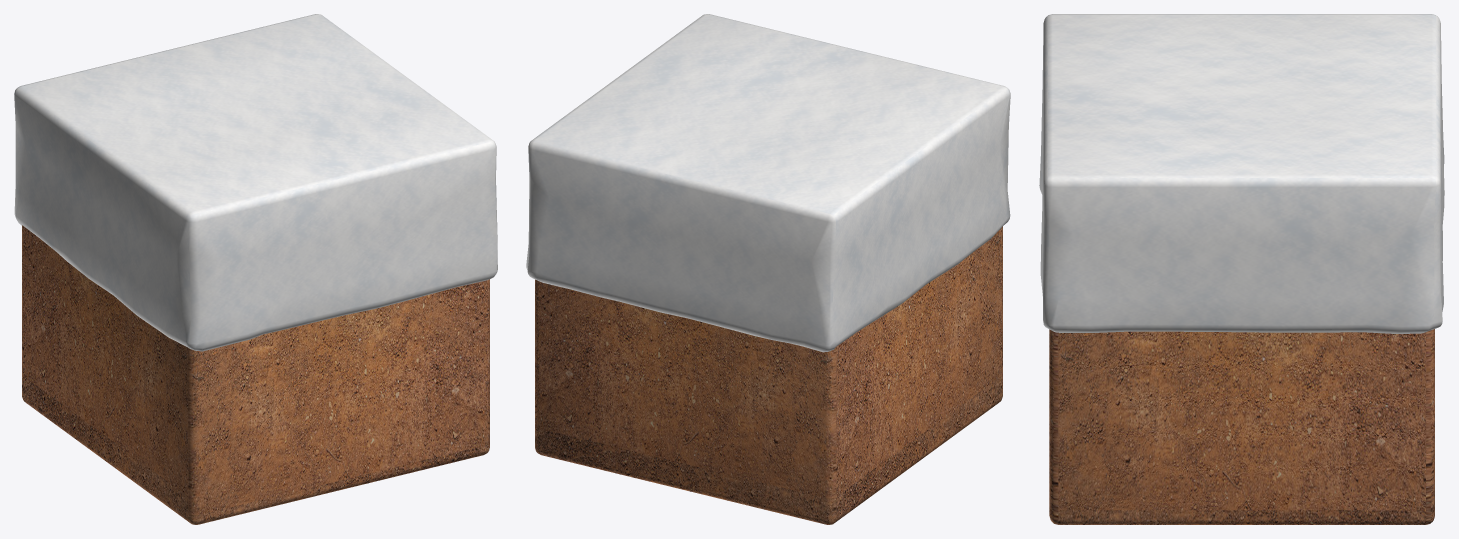
File: Snow.fbx
The picture shows the model from 3 angles, left to right: view 1: azimuth 30°, elevation 25°; view 2: azimuth 150°, elevation 25°; view 3: azimuth 270°, elevation 25°; orthographic projection. The views are drawn at different scales.
Parts seen in each view (by area): view 1: Cube.001, Cube; view 2: Cube.001, Cube; view 3: Cube.001, Cube.
Boxes of the visible parts, x1,y1,x2,y2 form: Cube.001: (14, 14, 497, 351); Cube: (22, 225, 489, 524); Cube.001: (526, 14, 1010, 352); Cube: (535, 226, 1002, 524); Cube.001: (1039, 14, 1444, 333); Cube: (1049, 329, 1434, 524).
Bounding box in the file's own units: 210 × 201 × 210.
